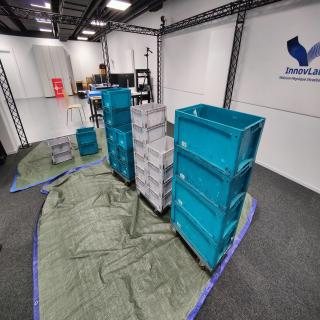Box8G: (132, 103, 169, 129), (148, 136, 175, 171), (132, 123, 169, 145), (149, 176, 175, 200), (149, 163, 176, 184), (148, 192, 175, 210), (134, 139, 149, 161), (134, 153, 151, 172), (135, 176, 149, 199), (135, 165, 149, 187)
BoxB4: (175, 102, 268, 178), (174, 144, 257, 215), (171, 175, 248, 247), (171, 198, 242, 272)
BoxB8: (101, 88, 133, 111), (102, 109, 136, 130), (114, 122, 135, 147), (77, 127, 99, 146), (78, 142, 102, 159), (119, 164, 137, 180), (118, 149, 135, 165), (107, 141, 120, 160), (110, 153, 122, 173), (106, 126, 118, 144)
